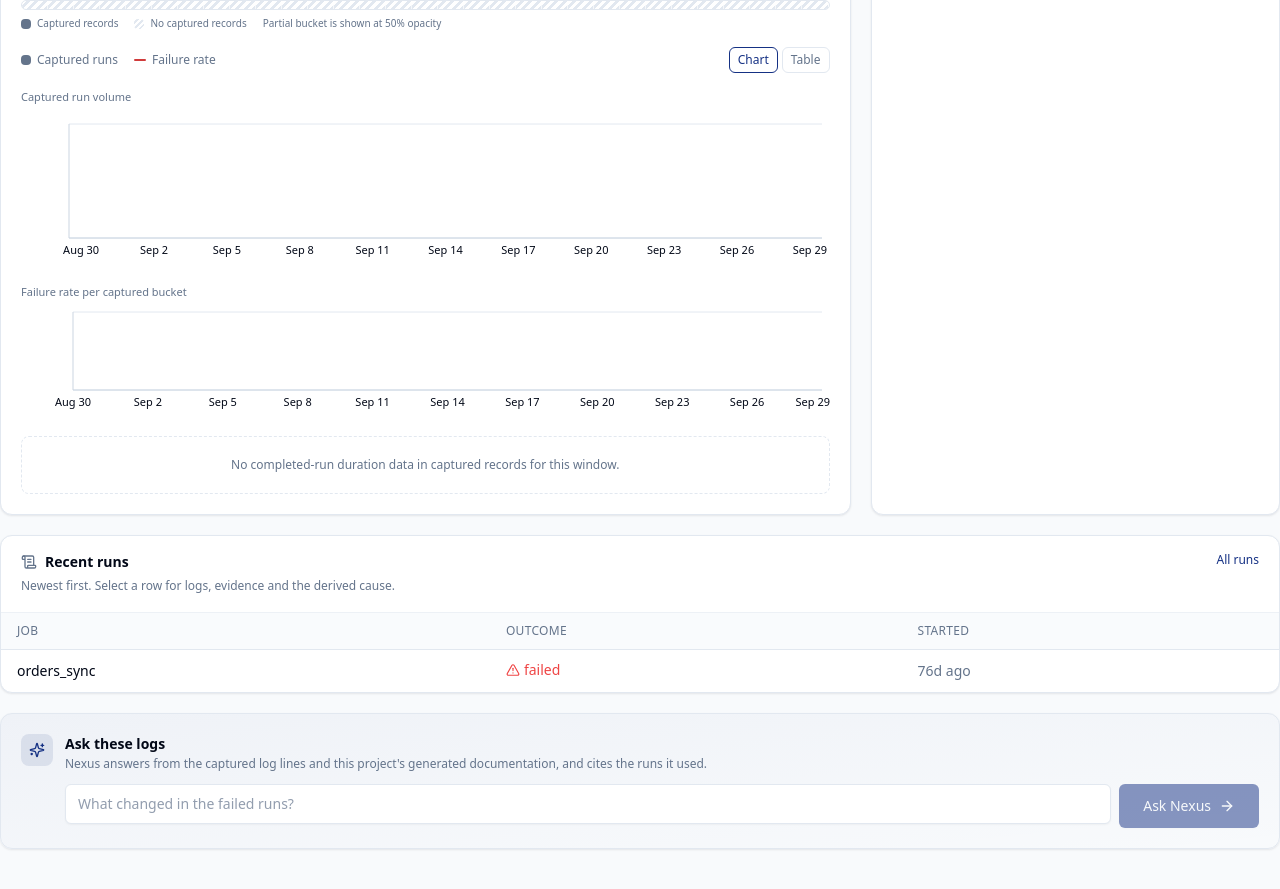
Test case: RuntimeLogsPage › renders captured log lines in the execution drawer
(page scrolled)
Click the text "orders_sync". click: (56, 670)
box: [1,649,490,692]
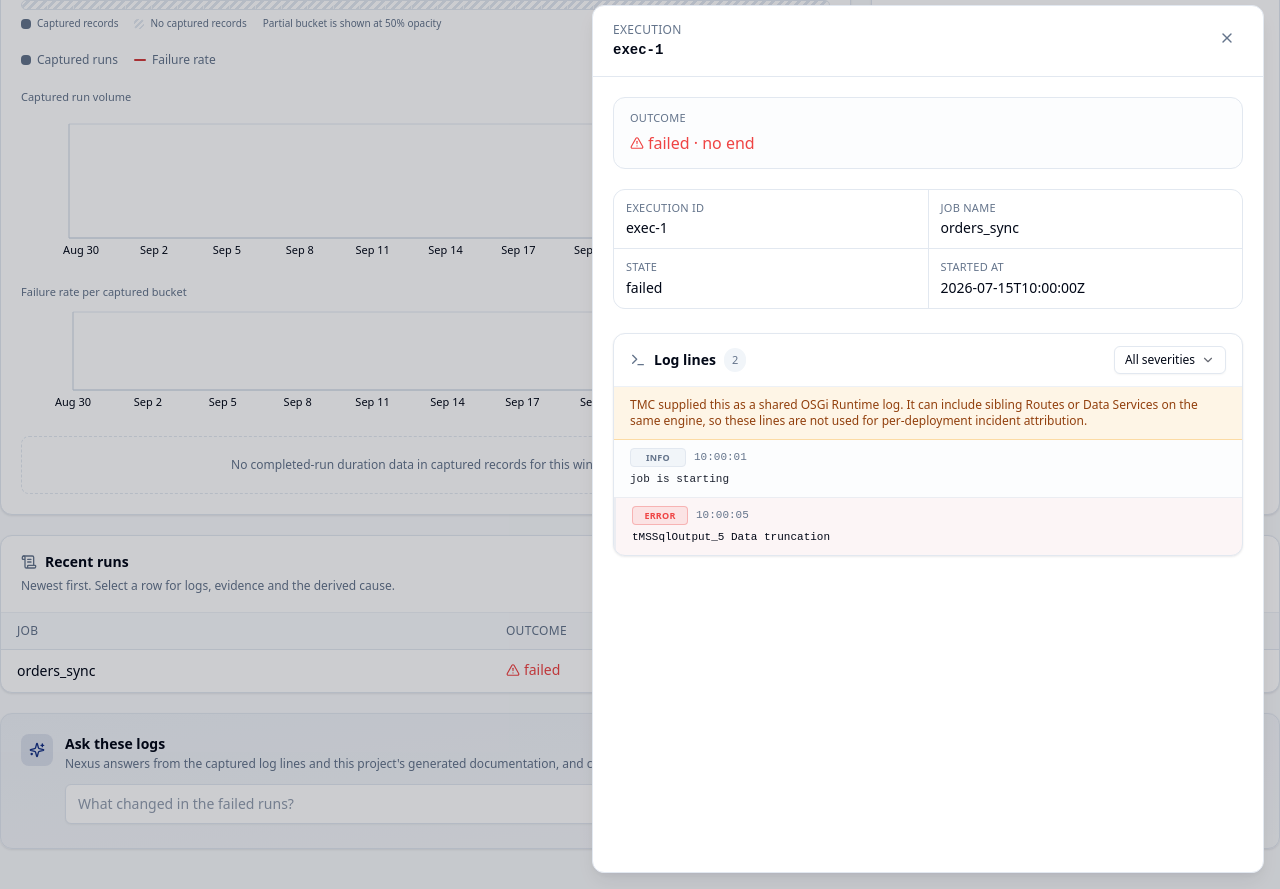
Expected: the heading "Log lines 2" is shown, [630,348,746,372]
Expected: the text "tMSSqlOutput_5 Data truncation" is shown, [632,531,830,543]
Expected: the text "2" is shown, [724,348,746,372]
